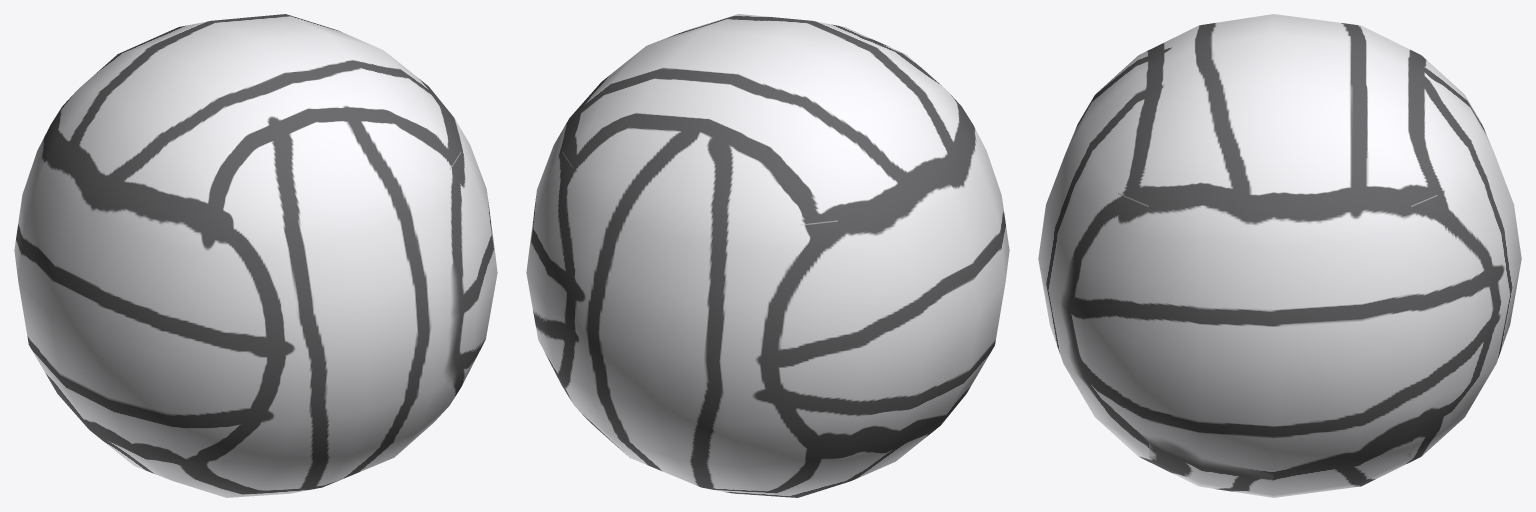
File: volleyball.glb
3 renders of one model, left to right at view 1: azimuth 30°, elevation 25°; view 2: azimuth 150°, elevation 25°; view 3: azimuth 270°, elevation 25°, orthographic.
Visible parts, largest first — view 1: Volleyball; view 2: Volleyball; view 3: Volleyball.
Part boxes in pixels (bbox=[...]): Volleyball: bbox=[14, 14, 497, 497]; Volleyball: bbox=[526, 14, 1009, 497]; Volleyball: bbox=[1038, 14, 1521, 497].
Size of the model in its own units: 0.3 by 0.3 by 0.3.
1 material, 1 textured.
